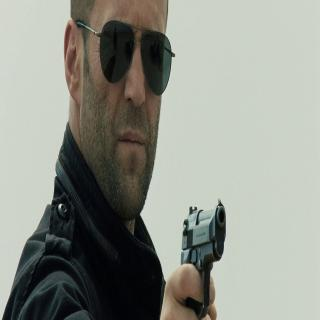gun: (168, 196, 226, 320)
